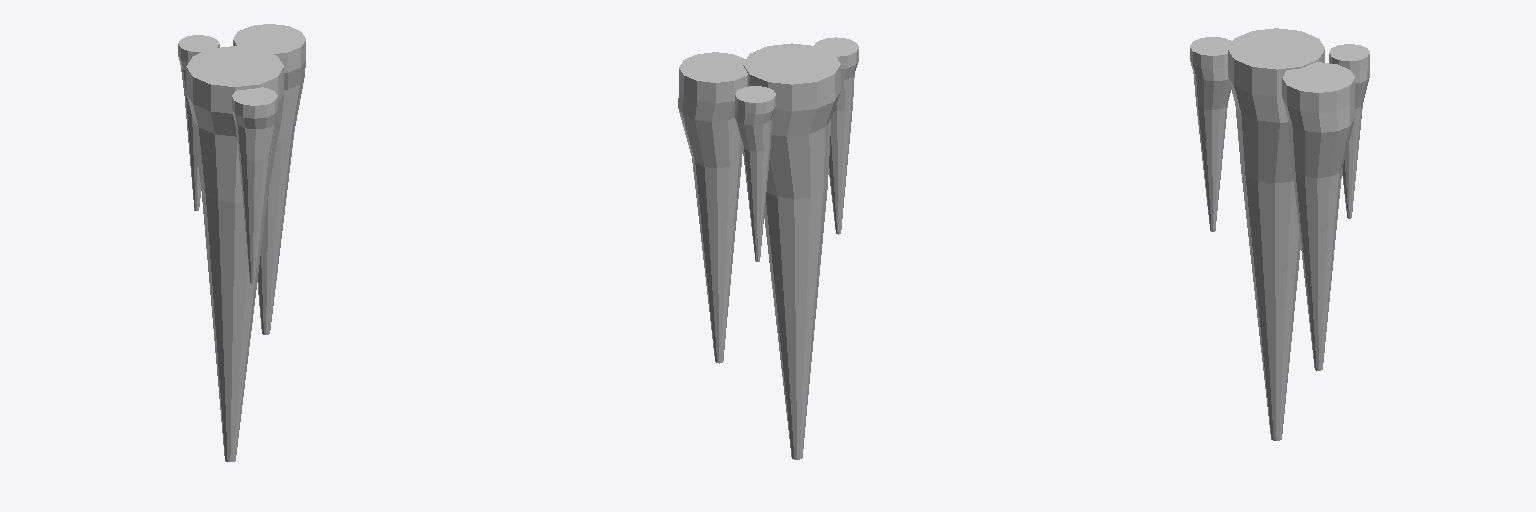
File: stalactite_GB.obj
3 views of the same model, side by side, from view 1: azimuth 30°, elevation 25°; view 2: azimuth 150°, elevation 25°; view 3: azimuth 270°, elevation 25° (orthographic).
Parts seen in each view (by area): view 1: stalactite; view 2: stalactite; view 3: stalactite.
Boxes of the visible parts, x1=… form: stalactite: x1=178, y1=24, x2=305, y2=461; stalactite: x1=678, y1=37, x2=858, y2=459; stalactite: x1=1190, y1=28, x2=1369, y2=440.
Size of the model in its own units: 1.6 by 4.62 by 1.93.